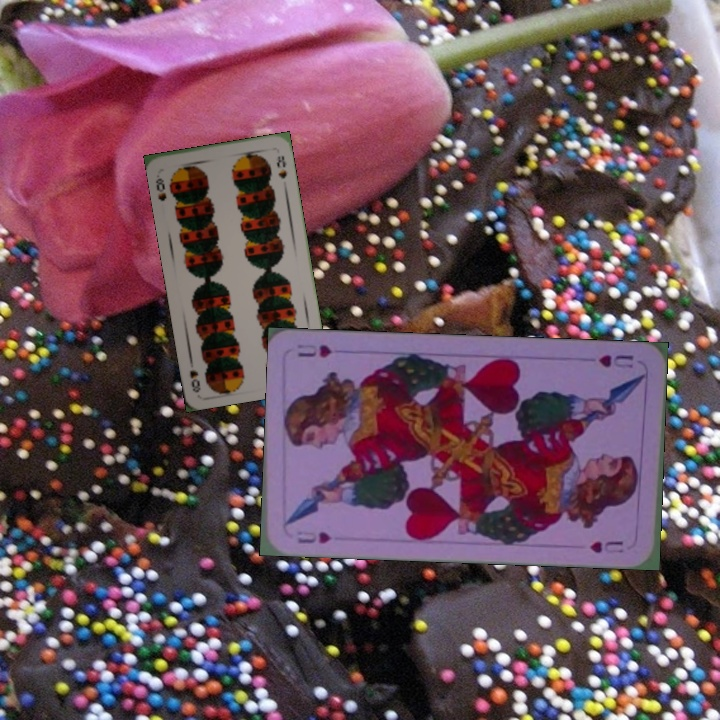HU: (594, 350, 636, 372), (292, 526, 334, 547)
S8: (151, 174, 169, 204)
